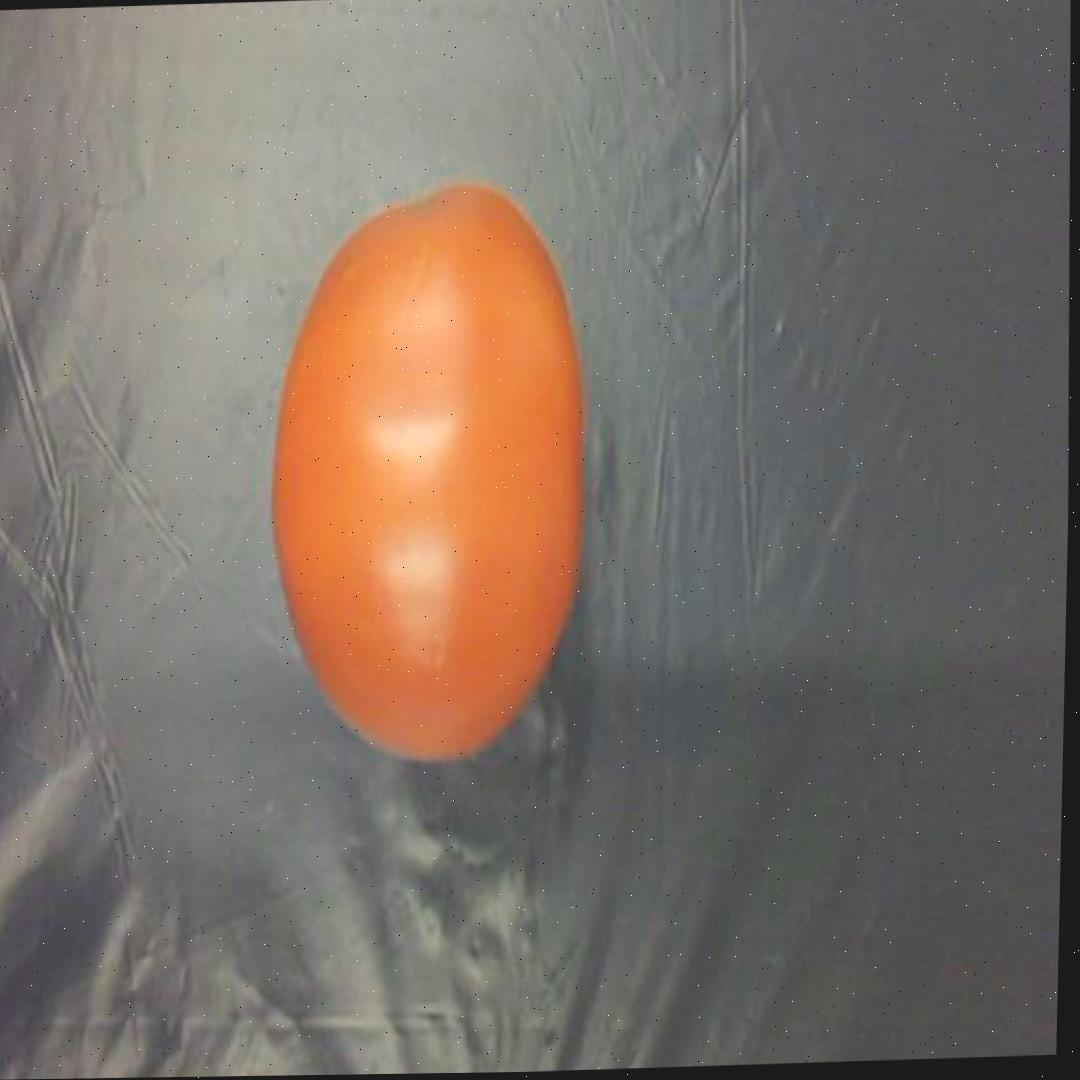matang: (258, 189, 593, 776)
